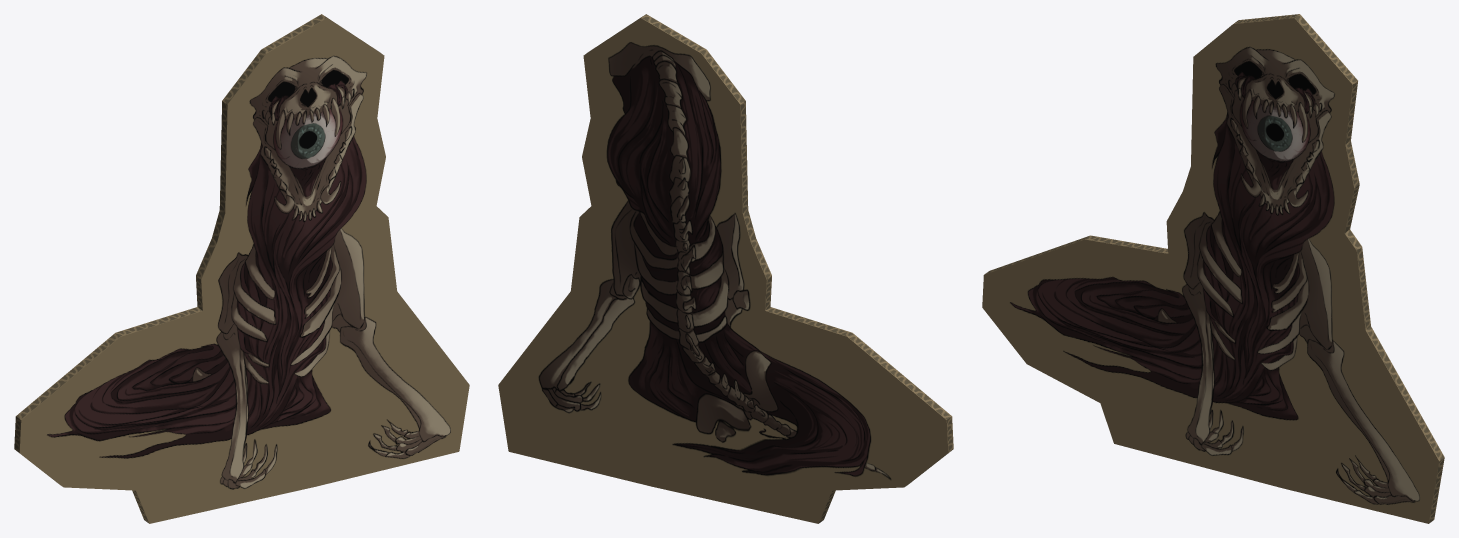
The model's file is FGJ_Monster3.fbx.
3 views of the same model, side by side, from view 1: azimuth 30°, elevation 25°; view 2: azimuth 150°, elevation 25°; view 3: azimuth 330°, elevation 25° (orthographic).
Visible parts, largest first — view 1: Plane; view 2: Plane; view 3: Plane.
Part boxes in pixels (x1,y1,x2,y2): Plane: (14,14,469,523); Plane: (498,14,953,523); Plane: (982,14,1444,523).
Bounding box in the file's own units: 216 × 214 × 4.55.
Materials: 1 (1 with a texture image).
